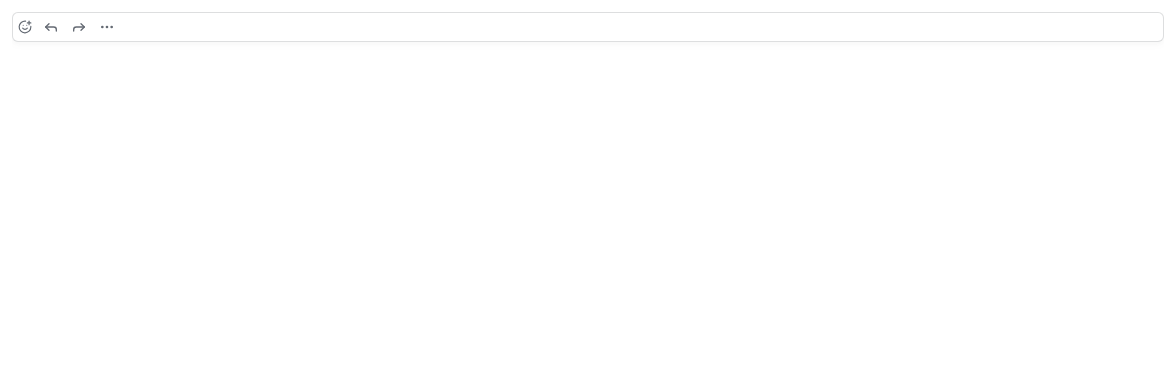
Test: messageActionBar › opens the more menu without clipping it inside the toolbar
Step 1. Click the button with test id "message-more-trigger" → point(107, 27), box x1=93 y1=13 x2=121 y2=41
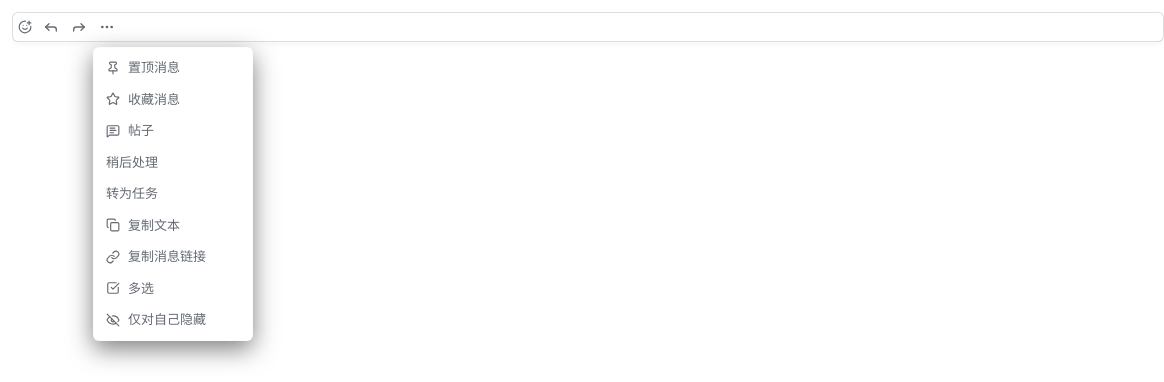
Check: the button with test id "message-defer-trigger" is shown, box x1=94 y1=146 x2=252 y2=178
